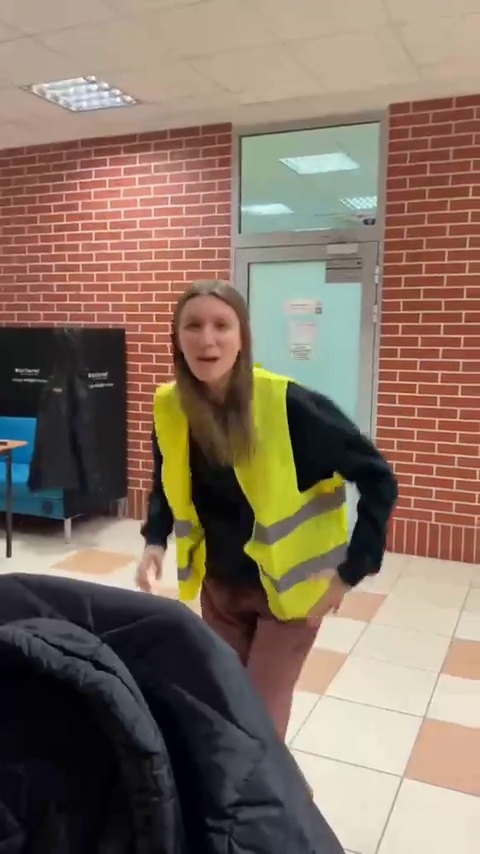vest: (156, 289, 378, 707)
